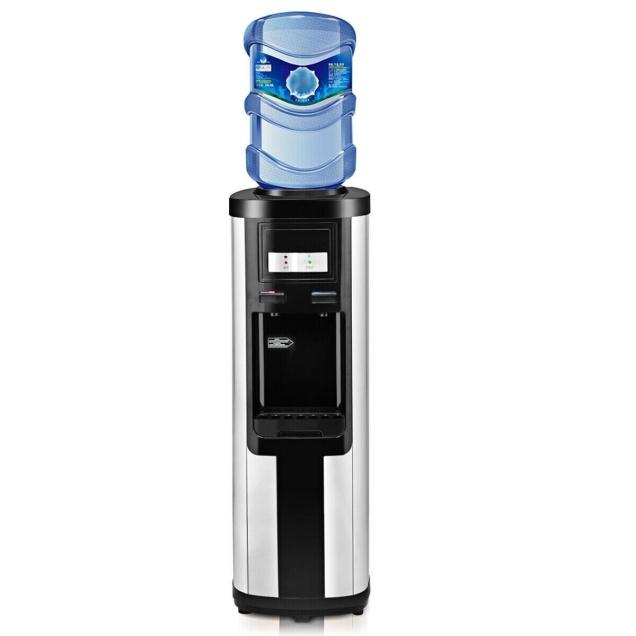Dispenser: (228, 10, 369, 619)
